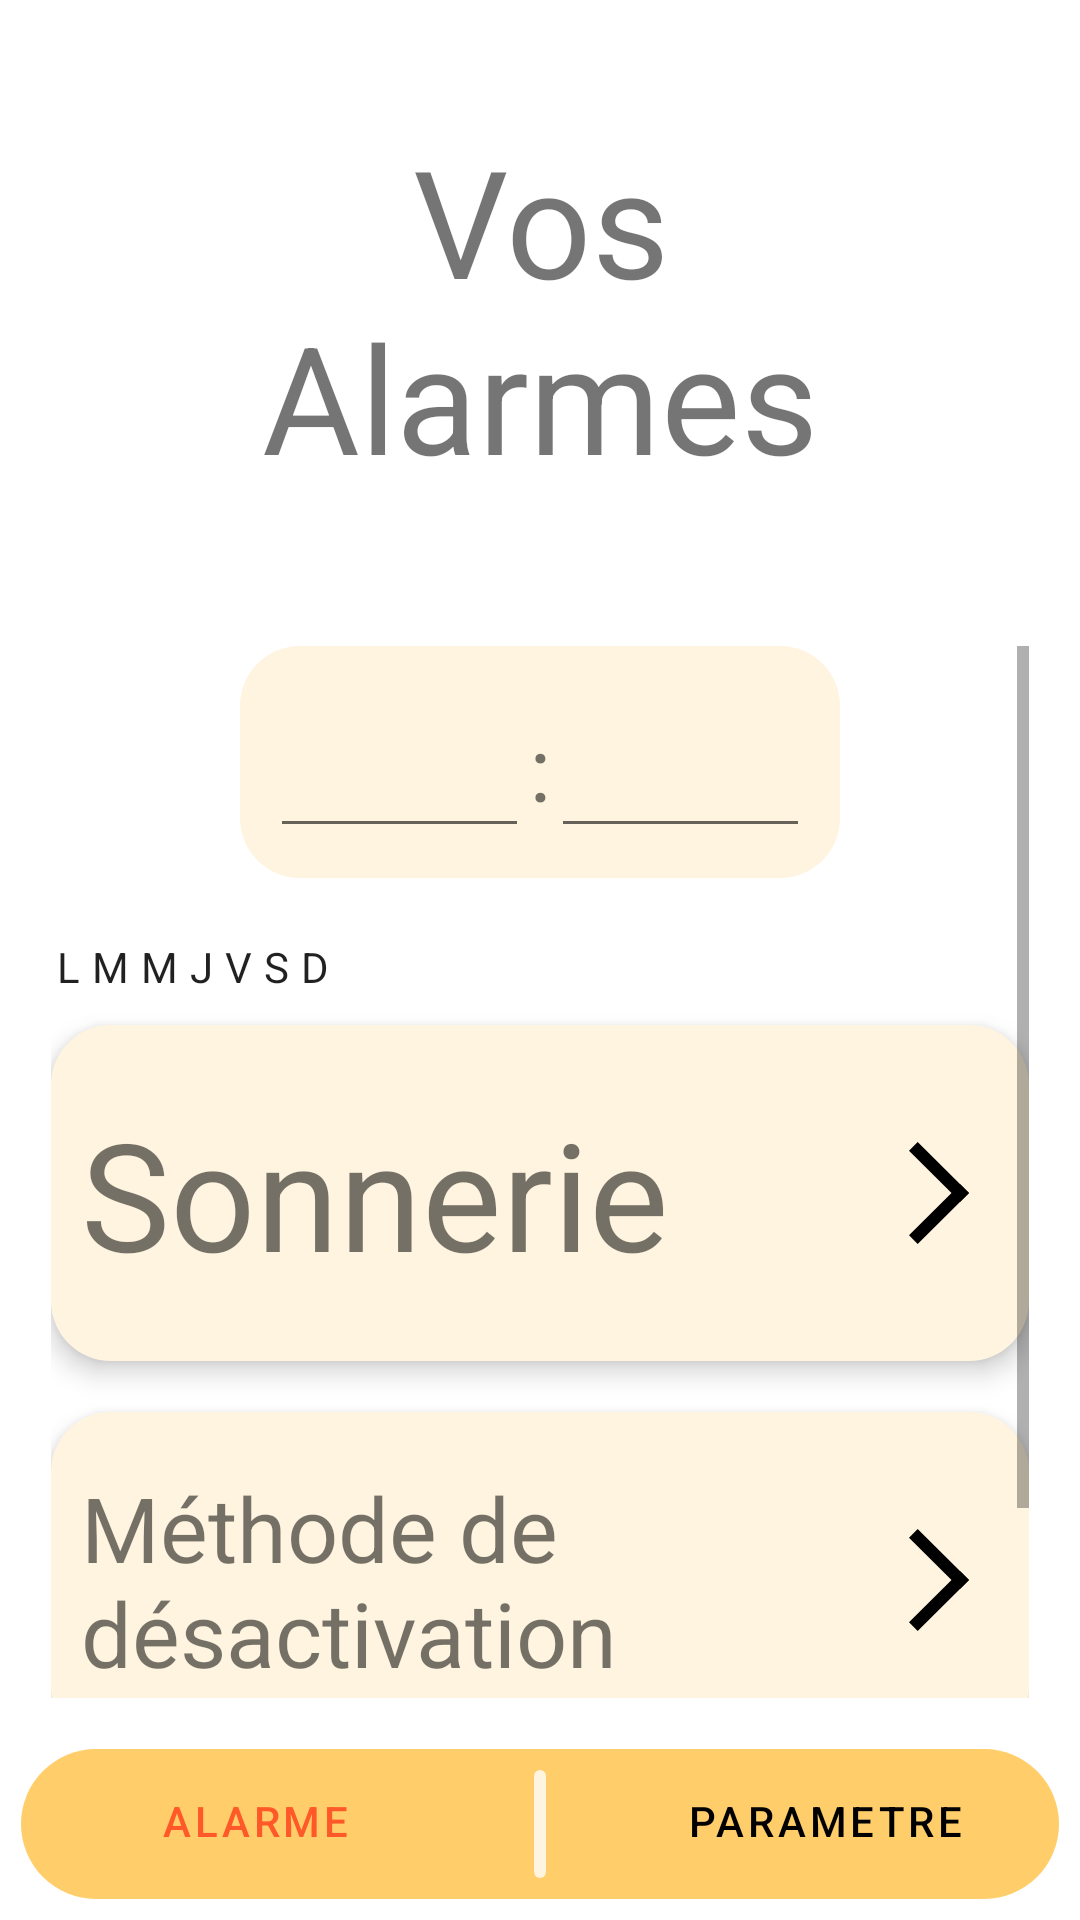

Where icons sit on this 1080 x 1920 app screen, as BBox(x1, y1, x2, y2):
fleche: BBox(909, 1142, 969, 1244), BBox(909, 1529, 969, 1631)
